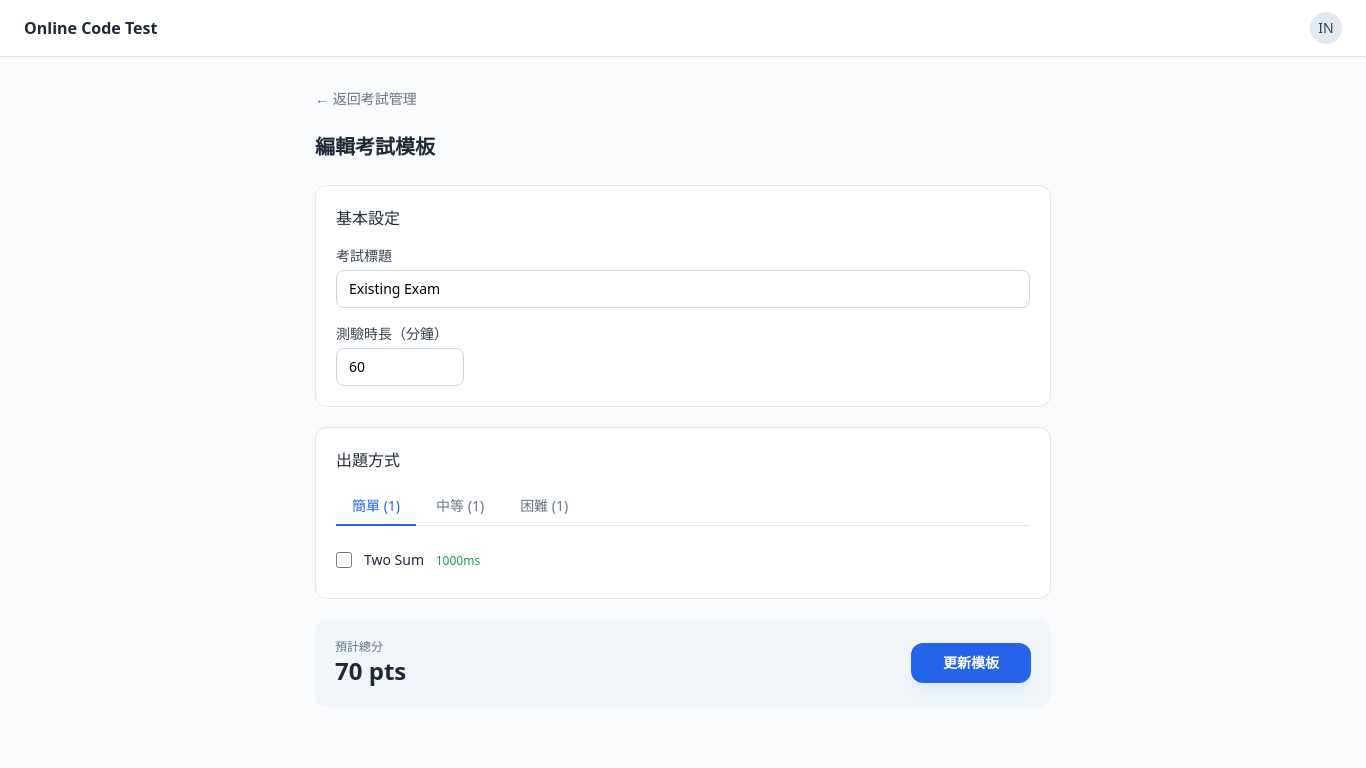
Test: TemplateCreatePage() › edit mode pre-fills template fields and selected problems
Expected: the heading "編輯考試模板" is shown, [315,133,435,160]
Expected: the field labelled "考試標題" holds "Existing Exam", [336,270,1030,308]
Click the button "中等 (1)". click: (460, 507)
box: [420,488,500,526]
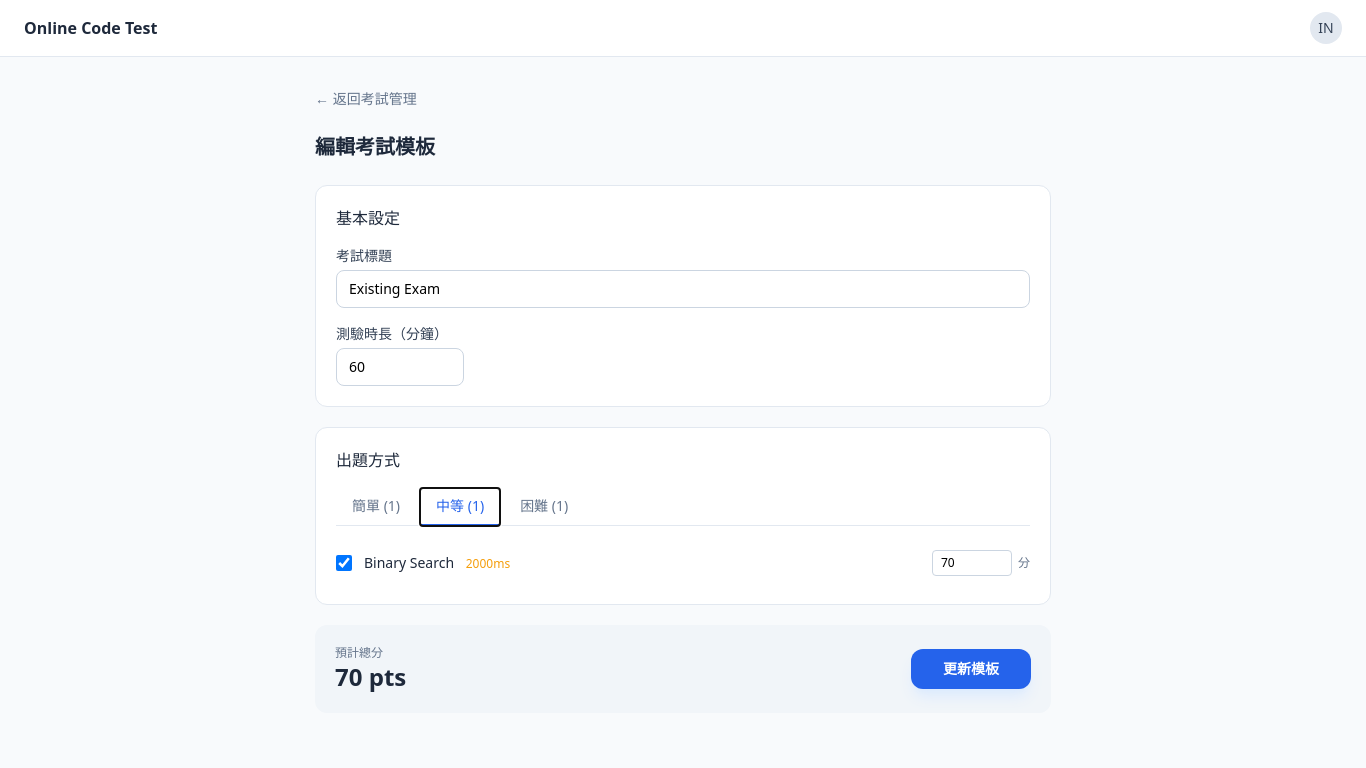
Now the checkbox named "Binary Search" is checked, box [336,555,352,571]
Now the number field named "Binary Search 配分" holds "70", box [932,550,1012,576]
